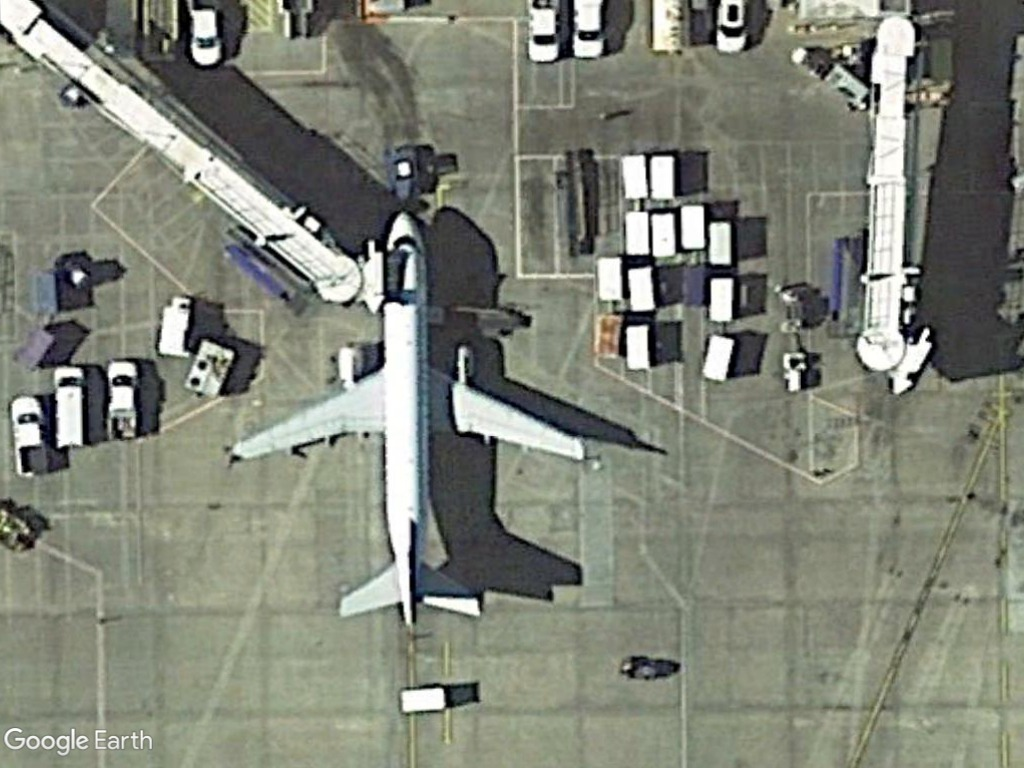airliner: (222, 207, 598, 638)
other: (7, 390, 53, 482), (99, 354, 138, 443)
van: (49, 359, 92, 452)
